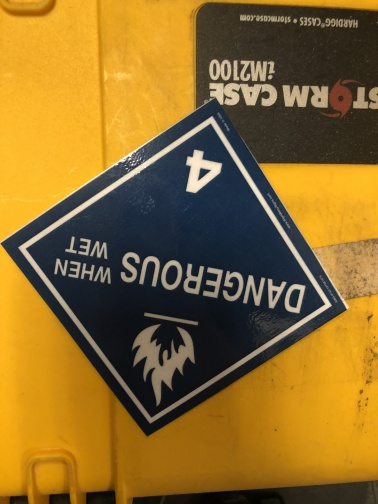DangerousWhenWet: (3, 98, 347, 437)
